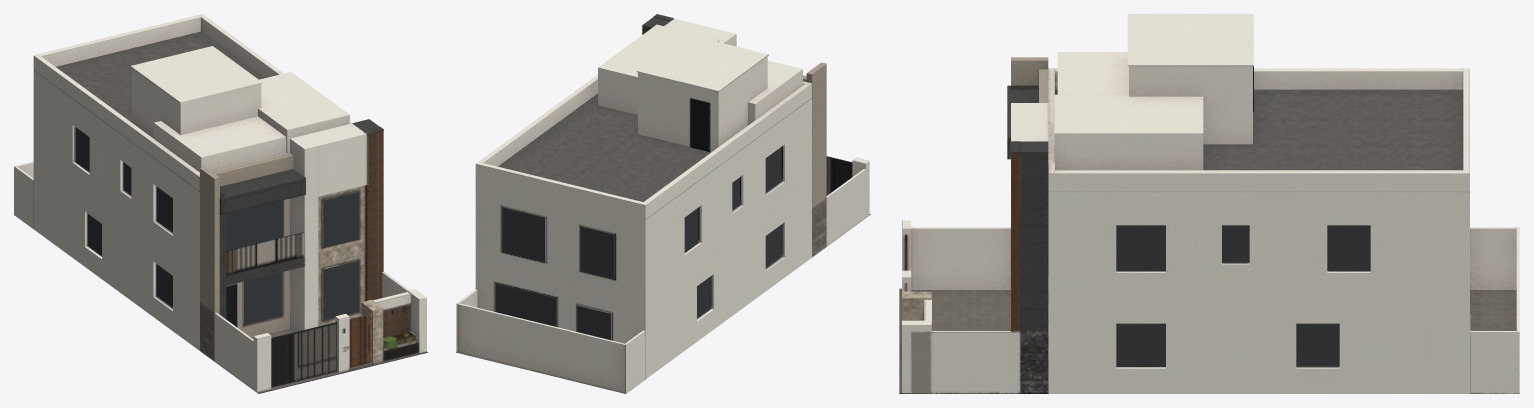
File: house_A_lod1.glb
The picture shows the model from 3 angles, left to right: view 1: azimuth 30°, elevation 25°; view 2: azimuth 150°, elevation 25°; view 3: azimuth 270°, elevation 25°; orthographic projection. The views are drawn at different scales.
Visible parts, largest first — view 1: body, glass; view 2: body, glass; view 3: body, glass.
Boxes of the visible parts, x1=… form: body: x1=14, y1=14, x2=427, y2=393; glass: x1=76, y1=127, x2=359, y2=325; body: x1=456, y1=14, x2=870, y2=393; glass: x1=495, y1=147, x2=781, y2=340; body: x1=899, y1=14, x2=1519, y2=393; glass: x1=1116, y1=225, x2=1370, y2=366.
Size of the model in its own units: 8 by 10.05 by 20.
Materials: 3 (1 with a texture image).
